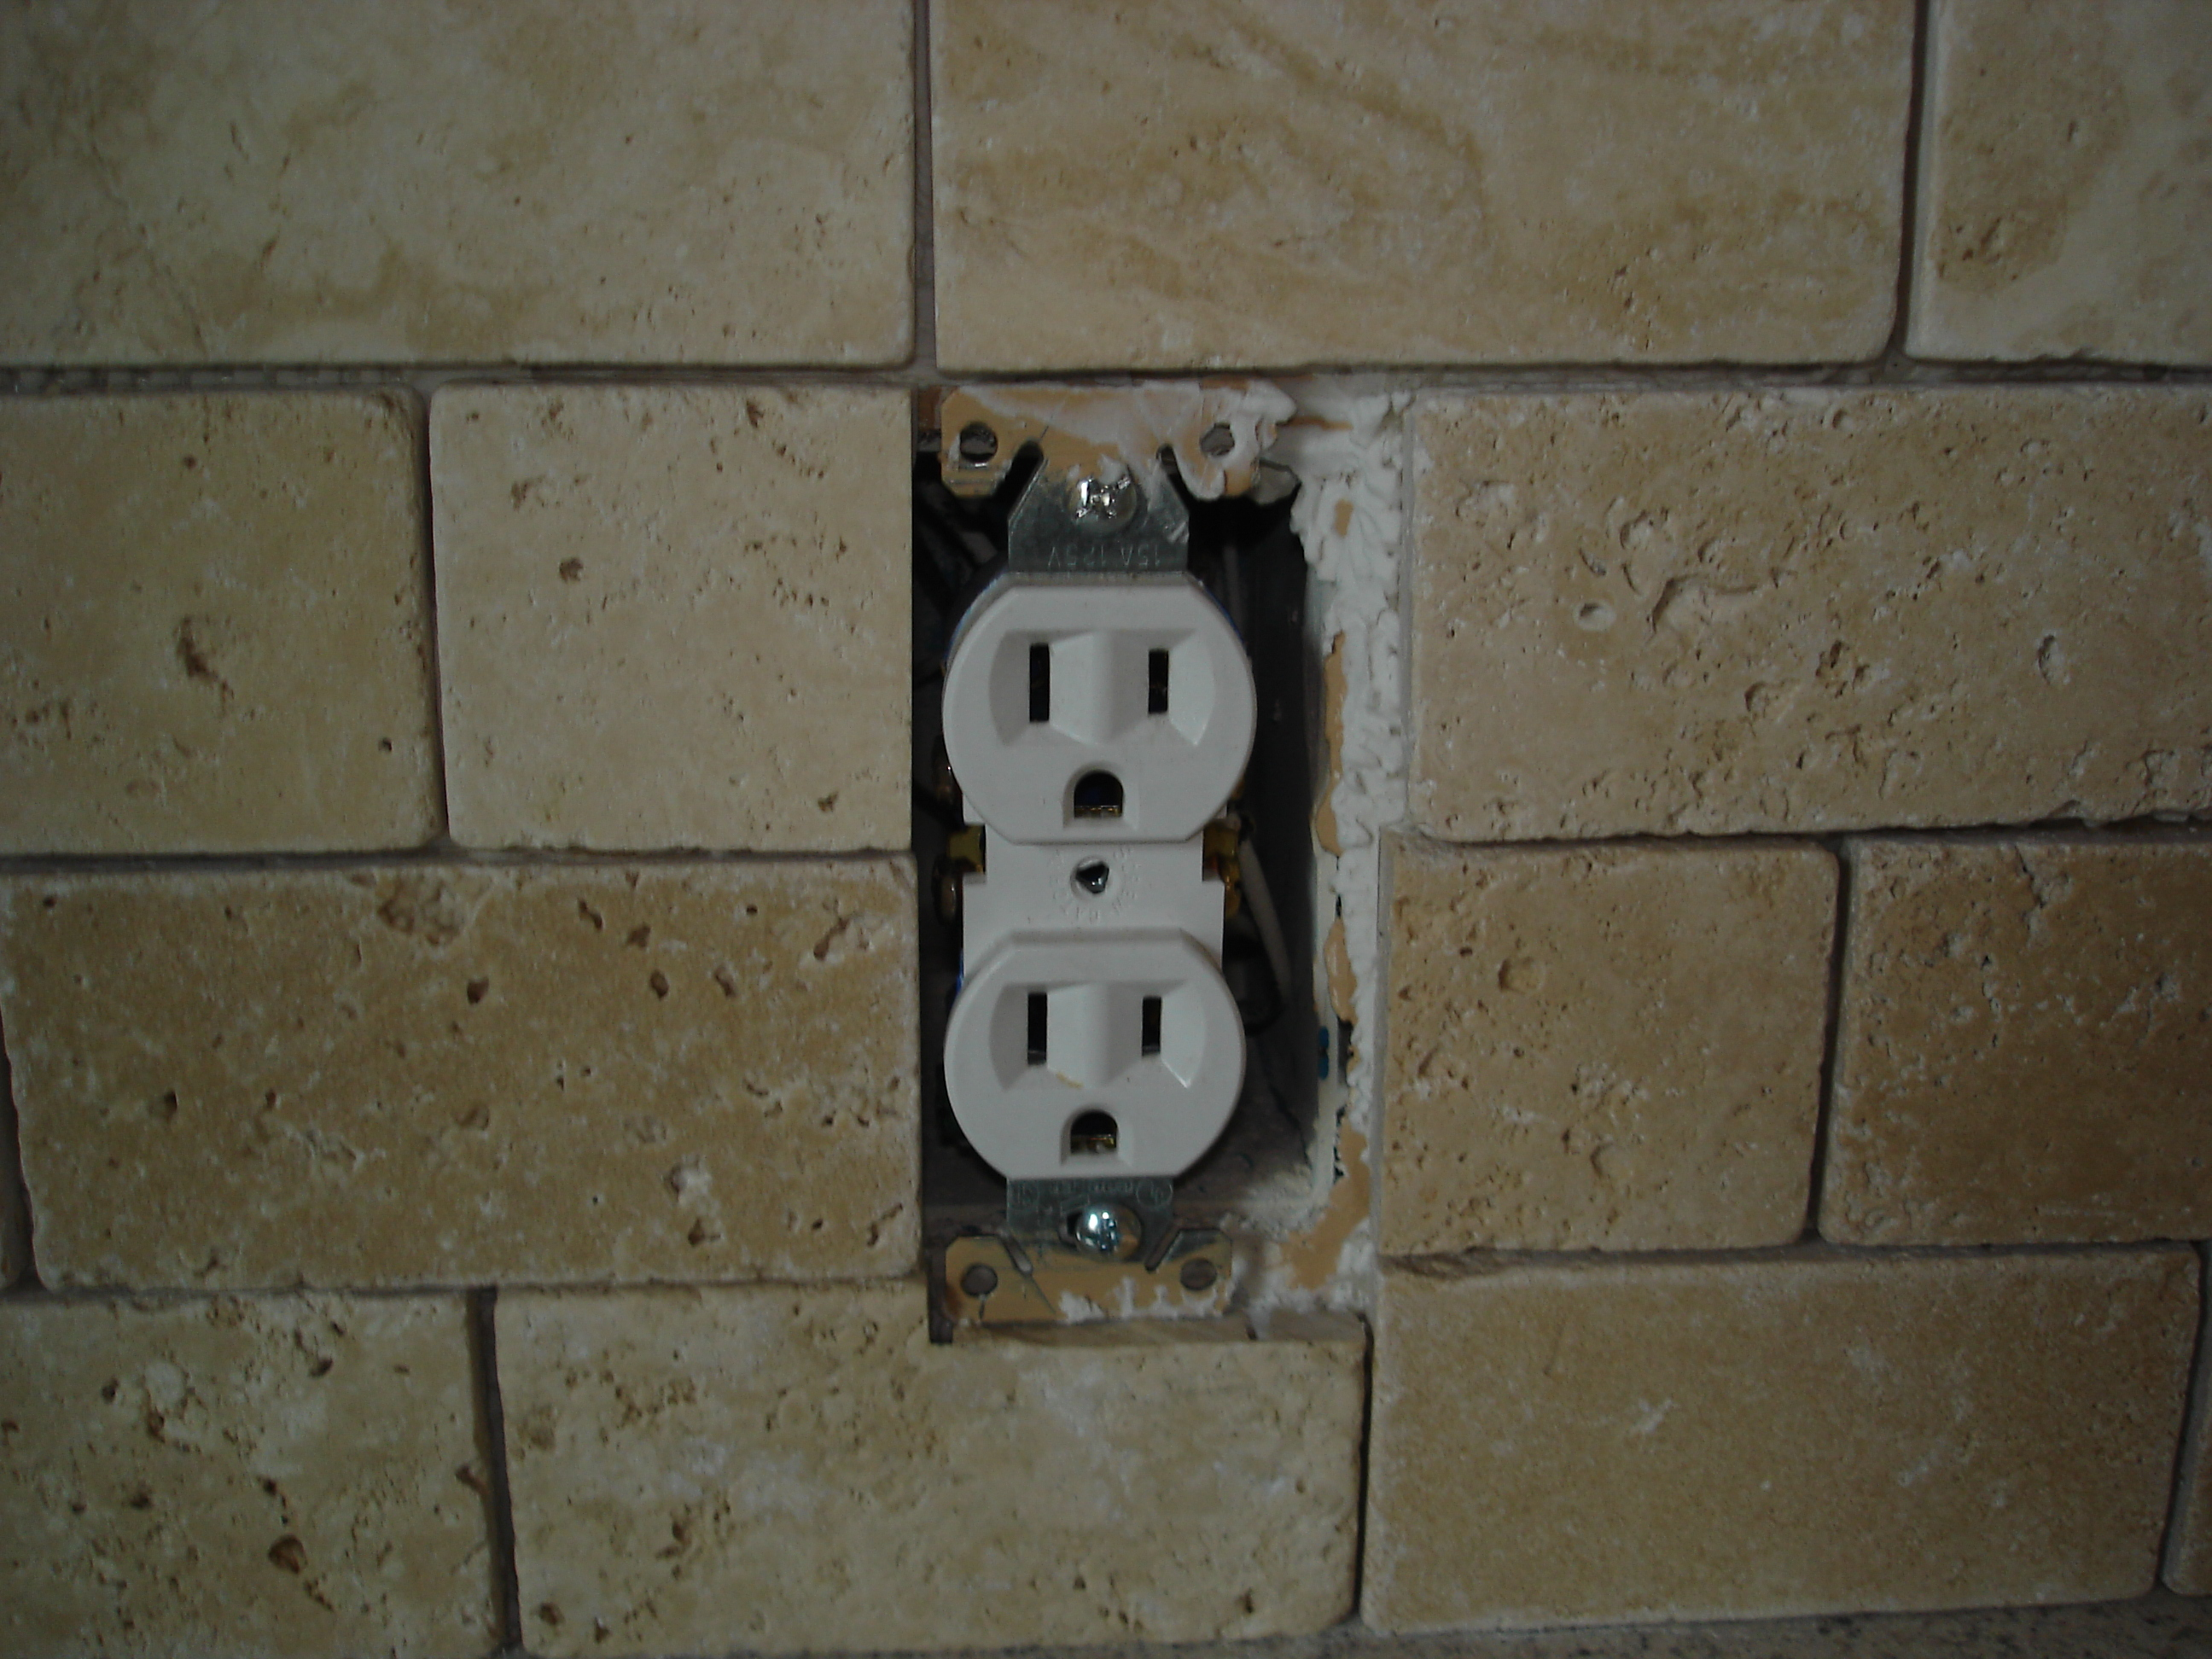outlet: (1007, 622, 1198, 833), (1007, 979, 1177, 1168)
